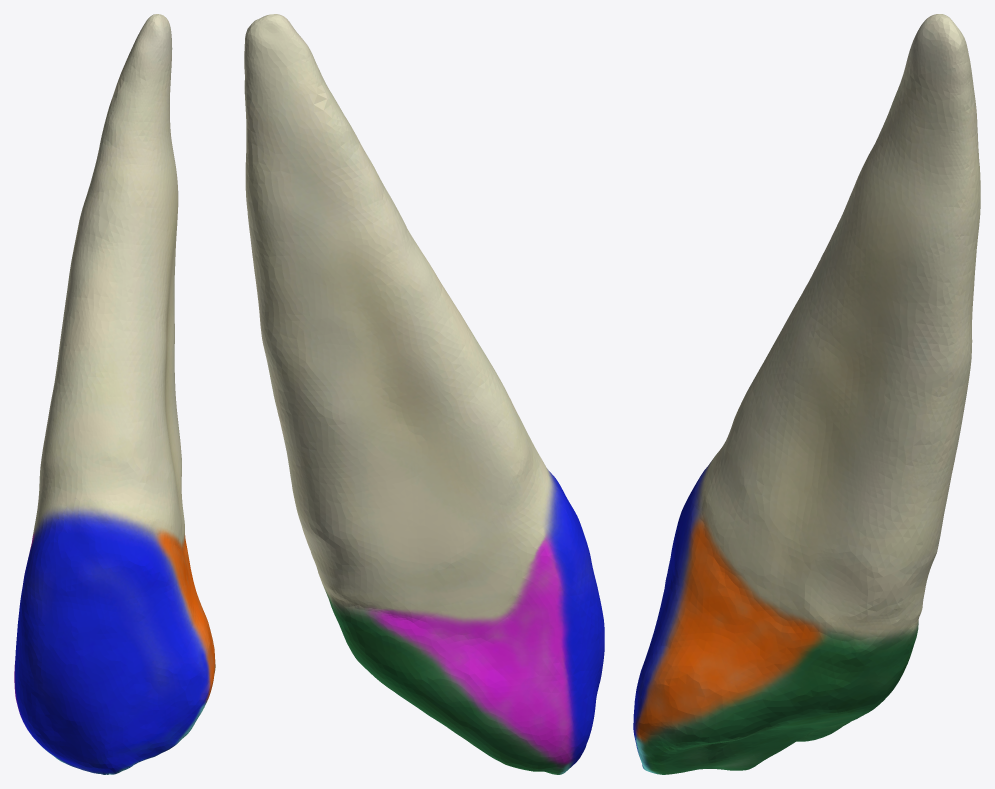
The model's file is 23 - canino superior esquerdo - faces coloridas.glb.
3 renders of one model, left to right at view 1: azimuth 30°, elevation 25°; view 2: azimuth 150°, elevation 25°; view 3: azimuth 270°, elevation 25°, orthographic. The views are drawn at different scales.
Parts seen in each view (by area): view 1: 3MFMeshParent_0; view 2: 3MFMeshParent_0; view 3: 3MFMeshParent_0.
Part boxes in pixels (x1,y1,x2,y2): 3MFMeshParent_0: (14, 14, 215, 774); 3MFMeshParent_0: (244, 14, 604, 774); 3MFMeshParent_0: (633, 14, 980, 774).
Size of the model in its own units: 0.4612 by 1.31 by 0.4856.
1 material, 1 textured.
